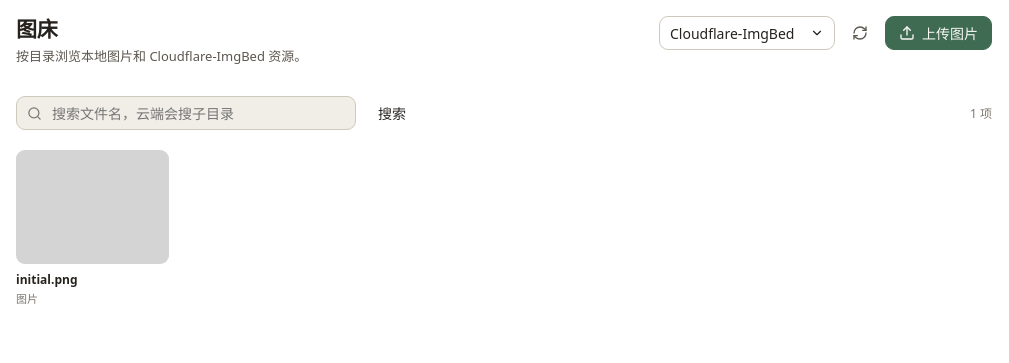
image bed interactions › ignores obsolete responses after a newer search has completed
Type "older" into the field named "搜索资源" at x=198, y=113, box [50,102,345,124]
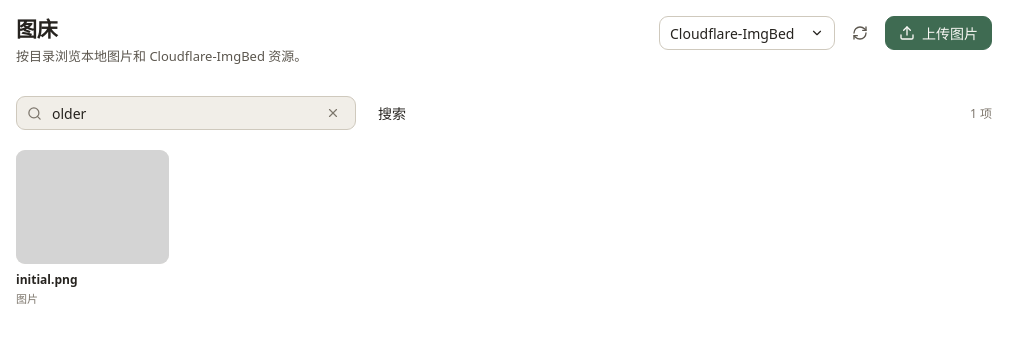
Submit the form named "搜索资源", box [16,92,992,134]
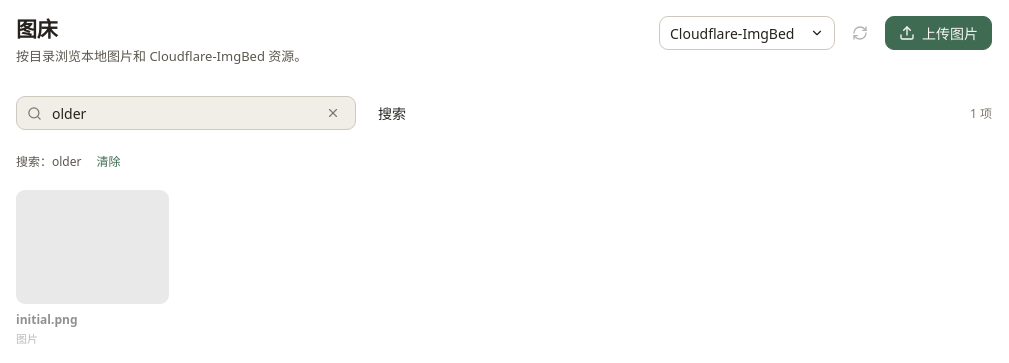
Replace the text in the field named "搜索资源" with "newer" at x=182, y=113, box [50,102,313,124]
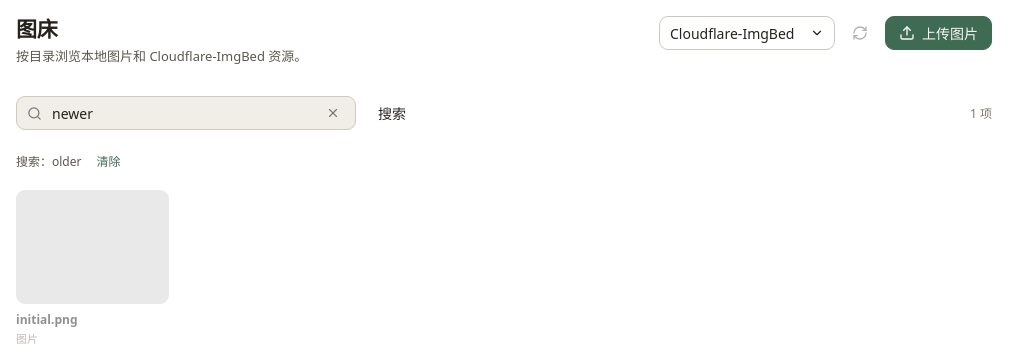
Submit the form named "搜索资源", box [16,92,992,134]
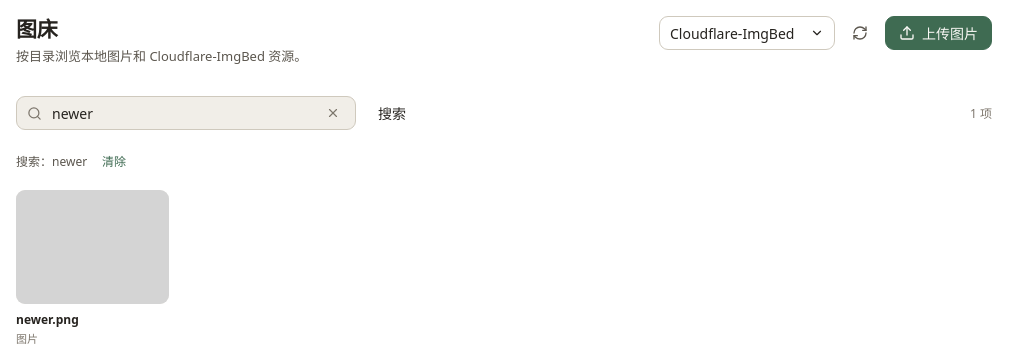
Now the text "搜索：newer" is shown, box [16,152,87,170]
